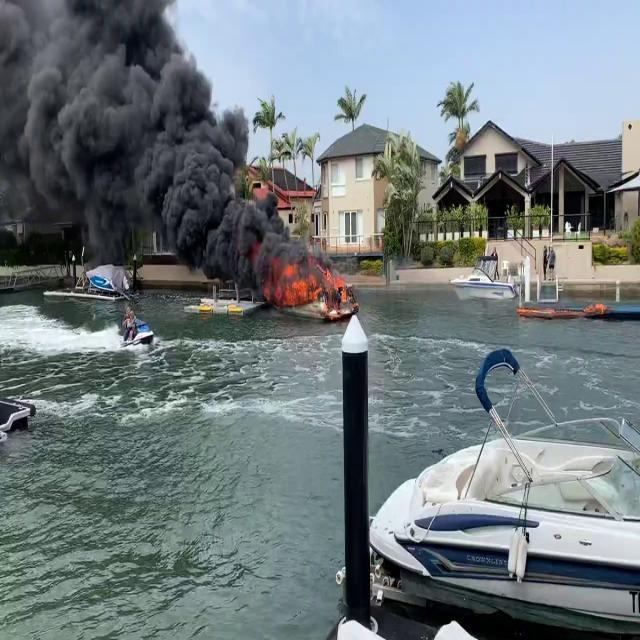Fire: (276, 260, 348, 316)
Smoke: (0, 0, 285, 292)
